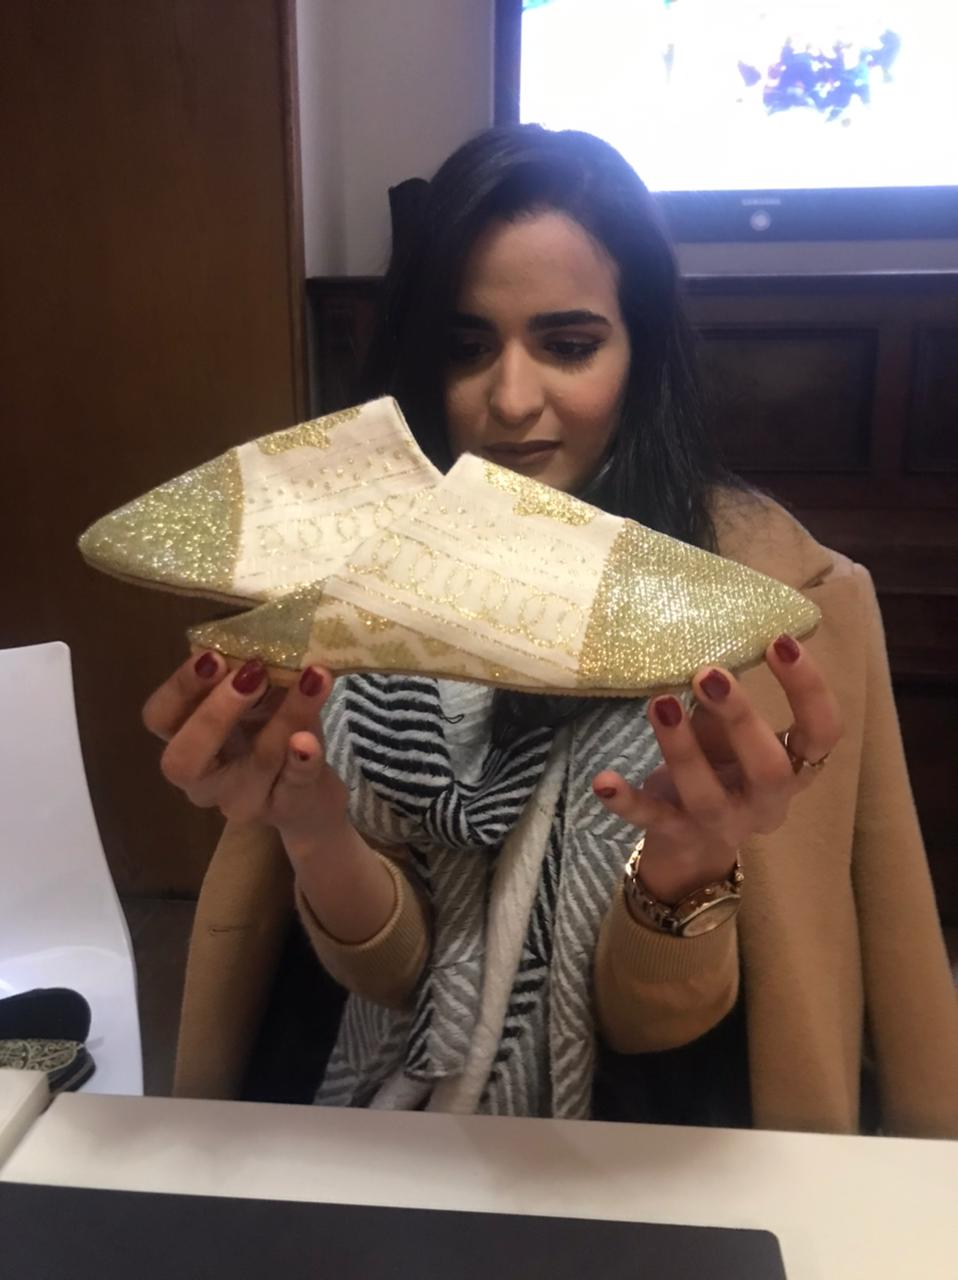balgha: (65, 411, 826, 695)
